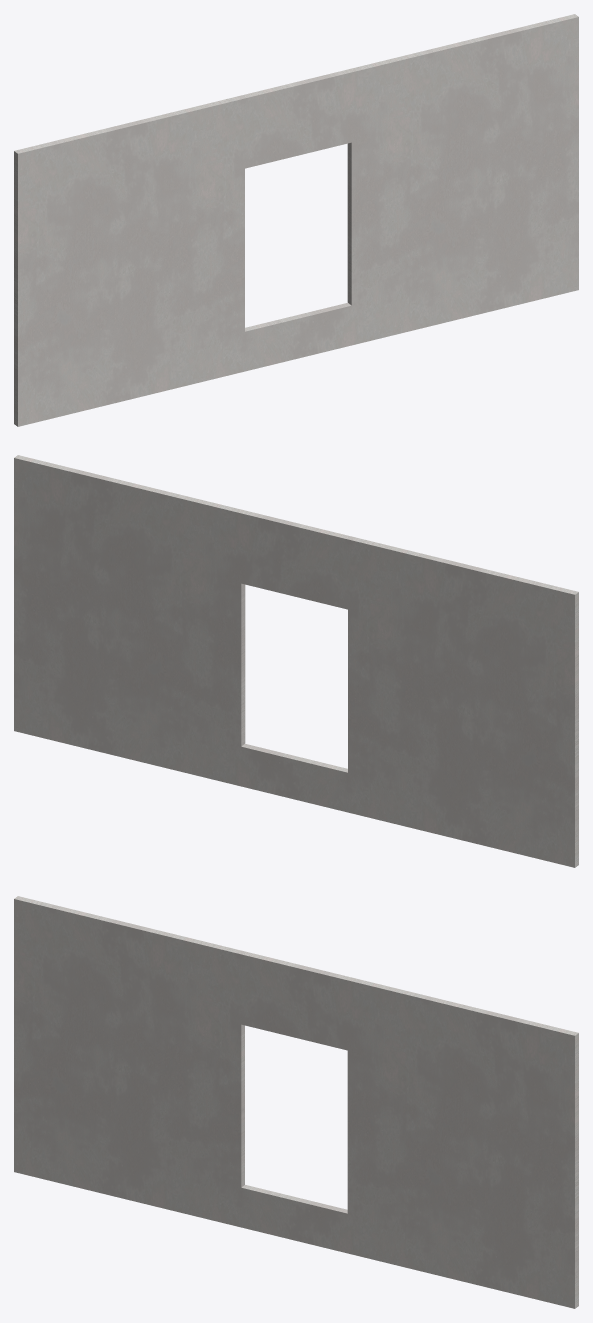
Rendered from frontWall.obj.
3 renders of one model, top to bottom at view 1: azimuth 30°, elevation 25°; view 2: azimuth 150°, elevation 25°; view 3: azimuth 330°, elevation 25°, orthographic.
Visible parts, largest first — view 1: Plane.001; view 2: Plane.001; view 3: Plane.001.
Part boxes in pixels (bbox=[...]): Plane.001: bbox=[14, 14, 578, 426]; Plane.001: bbox=[14, 455, 578, 867]; Plane.001: bbox=[14, 896, 578, 1308].
Bounding box in the file's own units: 7.59 × 3.53 × 0.0933.
